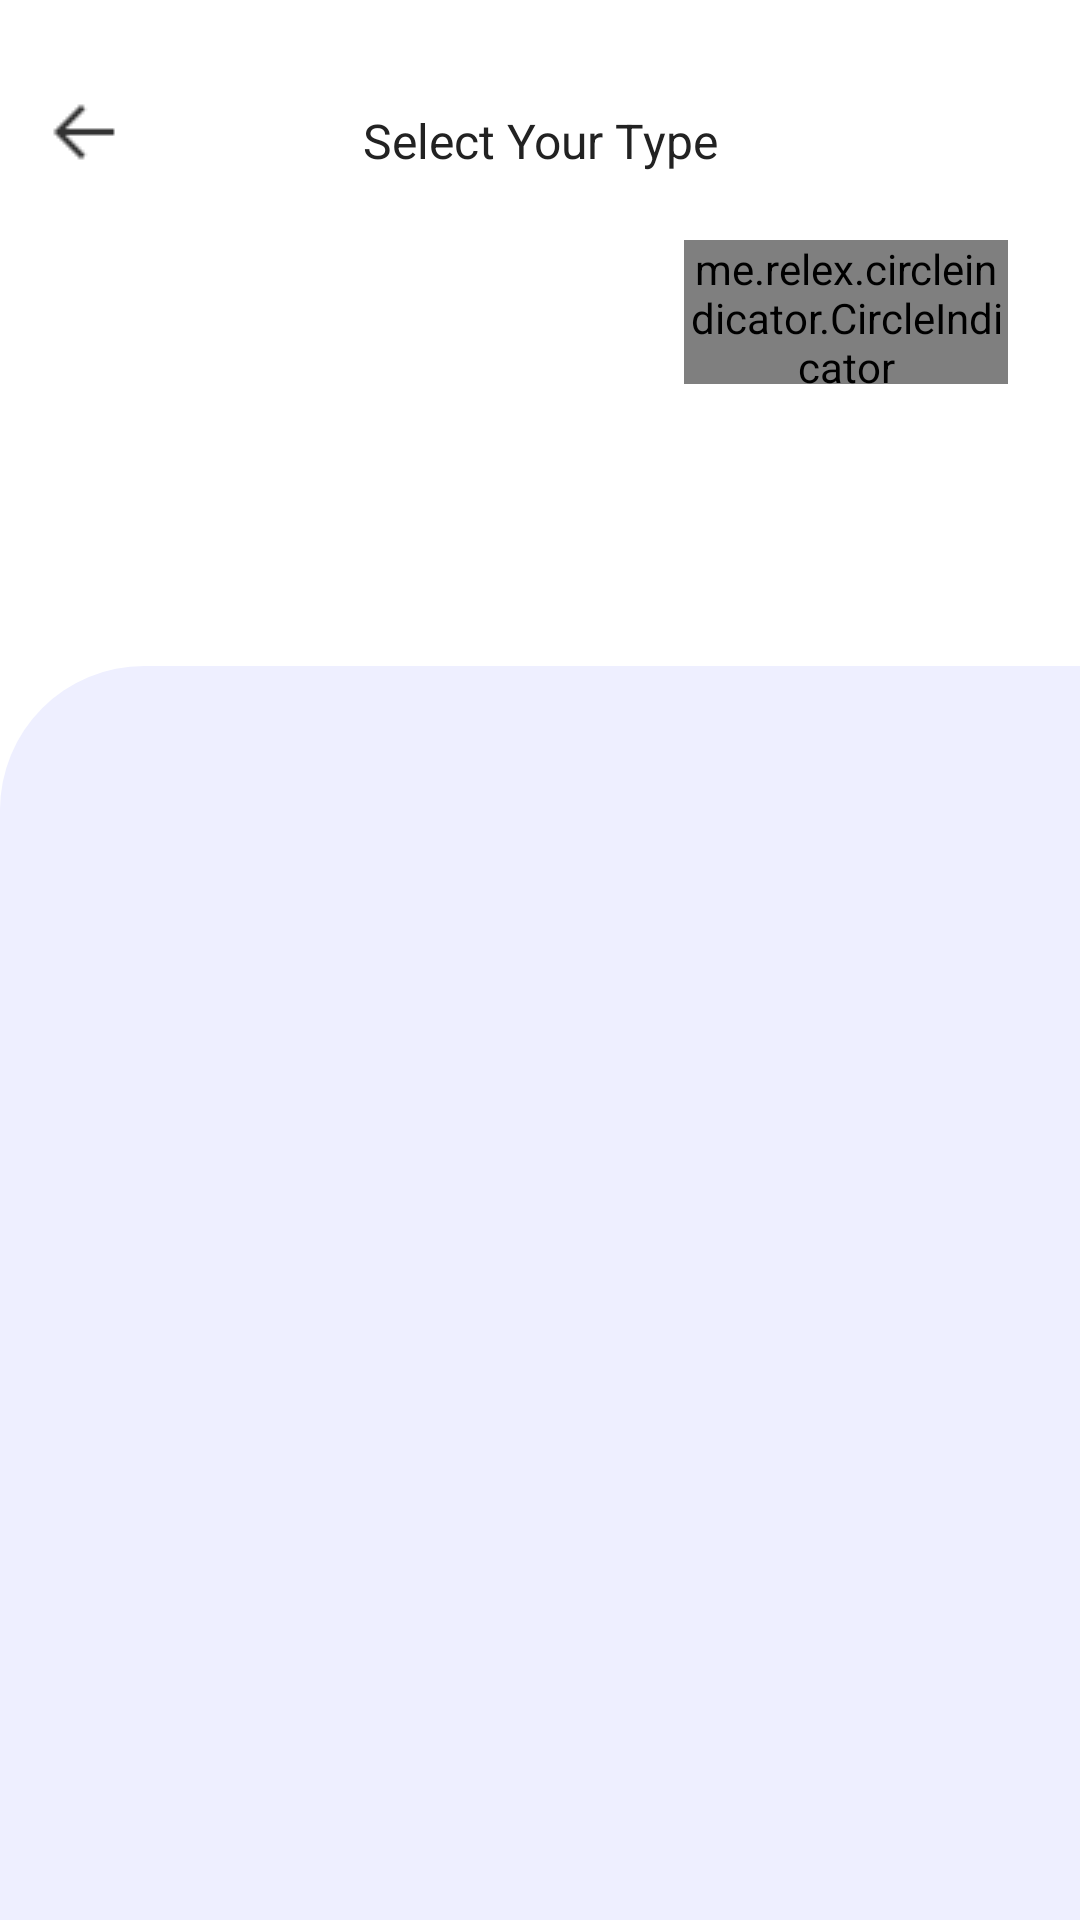

Icon bounding boxes for this 1080px x 1920px phone screenshot, format Rect(x1, y1, x2, y2):
back: Rect(53, 104, 115, 160)
